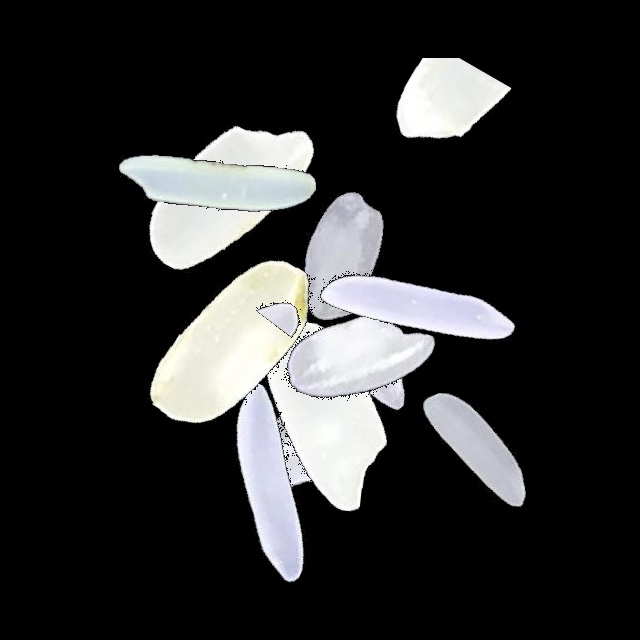Broken: (317, 58, 567, 182), (137, 301, 387, 403), (285, 371, 535, 455), (240, 153, 324, 403), (332, 383, 582, 458)
Full: (183, 309, 433, 559), (199, 292, 449, 542), (218, 129, 468, 379), (235, 234, 485, 484), (102, 67, 352, 317), (150, 357, 400, 607), (106, 217, 356, 467), (348, 323, 598, 573), (93, 57, 343, 307), (292, 182, 542, 432)
